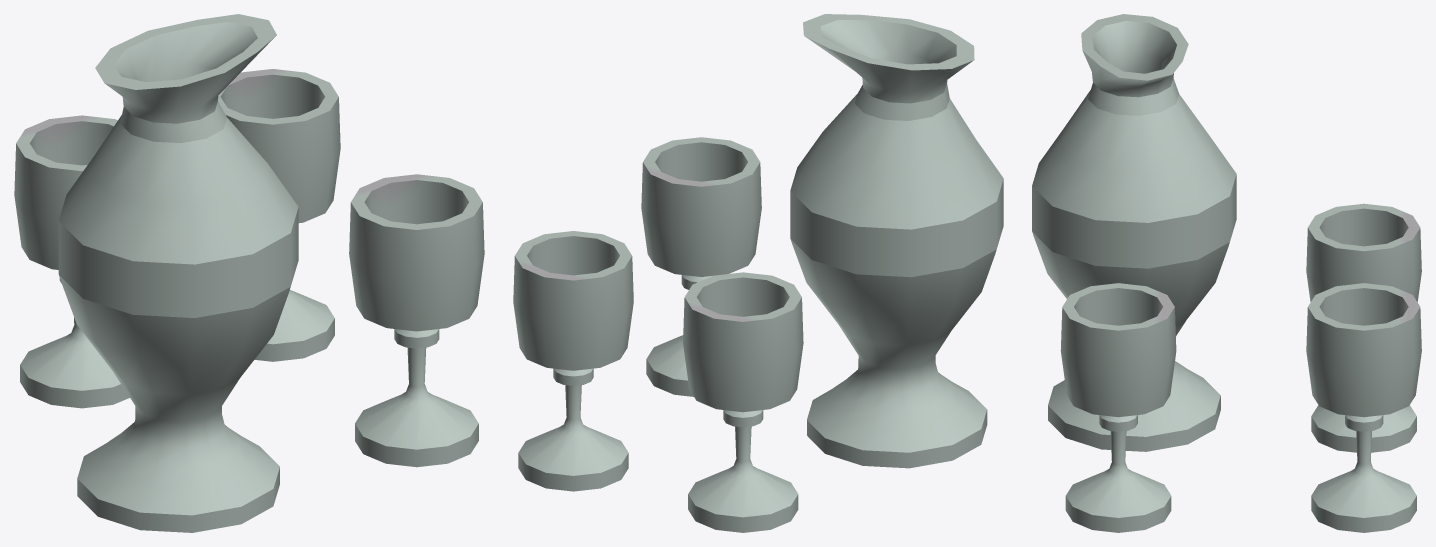
Rendered from SilverwareShelfFiller_Goblets.fbx.
3 renders of one model, left to right at view 1: azimuth 30°, elevation 25°; view 2: azimuth 150°, elevation 25°; view 3: azimuth 270°, elevation 25°, orthographic. The views are drawn at different scales.
Visible parts, largest first — view 1: SilverwareShelfFiller_(3); view 2: SilverwareShelfFiller_(3); view 3: SilverwareShelfFiller_(3).
Boxes of the visible parts, bbox=[...] form: SilverwareShelfFiller_(3): bbox=[14, 14, 484, 532]; SilverwareShelfFiller_(3): bbox=[513, 14, 1003, 532]; SilverwareShelfFiller_(3): bbox=[1032, 14, 1421, 532].
Size of the model in its own units: 2.57 by 2.76 by 2.59.
